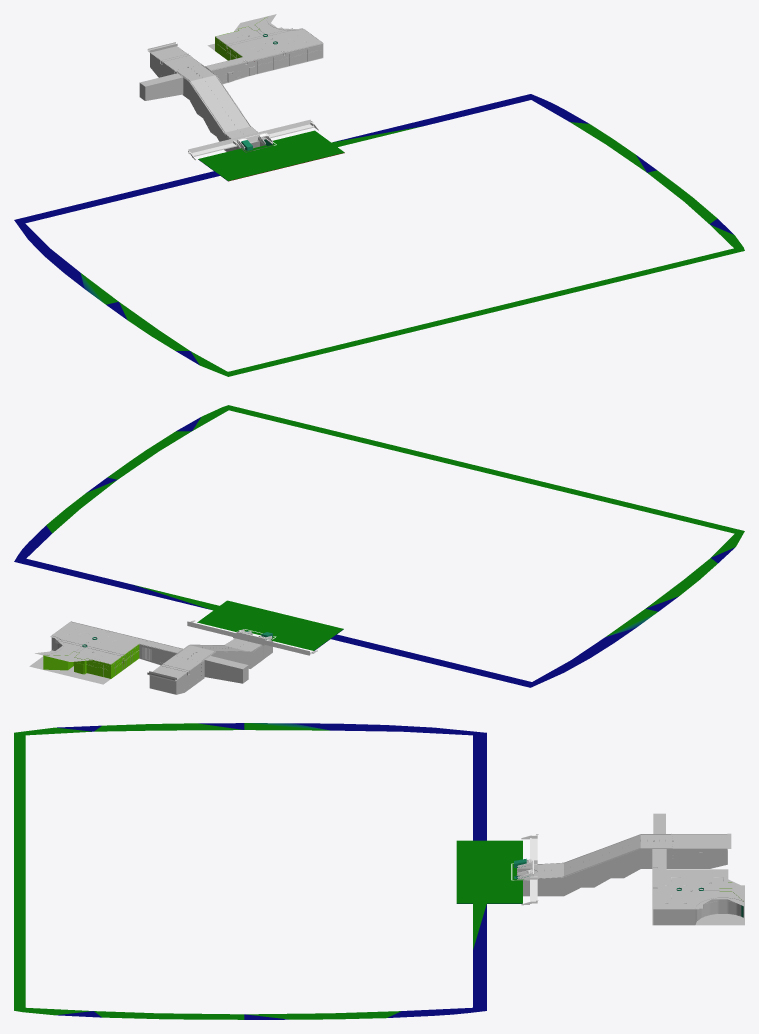
File: vestuarios.FBX
3 renders of one model, top to bottom at view 1: azimuth 30°, elevation 25°; view 2: azimuth 150°, elevation 25°; view 3: azimuth 270°, elevation 25°, orthographic. The views are drawn at different scales.
Visible parts, largest first — view 1: field_reference, stairs, changing_room; view 2: field_reference, changing_room, stairs; view 3: field_reference, stairs, changing_room.
Part boxes in pixels (x1,y1,x2,y2): field_reference: (14, 94, 744, 376); stairs: (139, 42, 273, 152); changing_room: (205, 14, 323, 84); field_reference: (14, 405, 744, 687); changing_room: (29, 621, 182, 684); stairs: (147, 630, 272, 694); field_reference: (14, 723, 538, 1019); stairs: (514, 813, 731, 896); changing_room: (652, 848, 744, 925).
Bounding box in the file's own units: 11579 × 934 × 12055.
